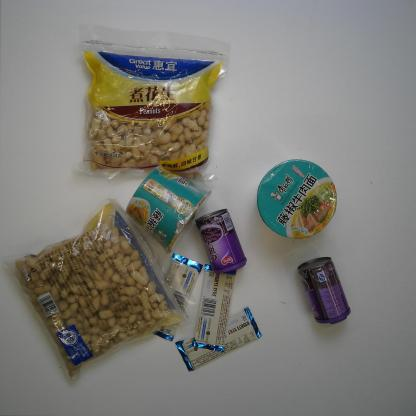Canned Food: (296, 256, 352, 325), (194, 207, 249, 276)
Chocolate: (173, 305, 263, 374), (152, 252, 204, 342), (192, 262, 237, 355)
Dried Food: (0, 195, 193, 388), (69, 22, 235, 184)
Instant Noodles: (124, 164, 215, 256), (256, 158, 338, 242)
